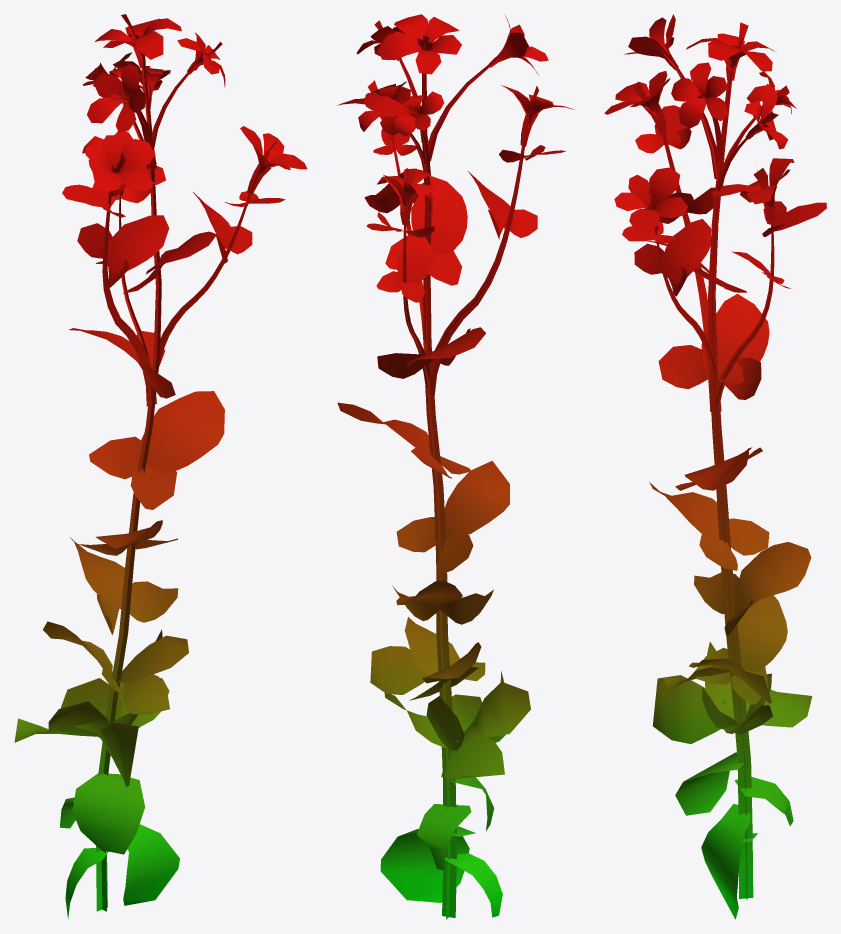
The model's file is Var1_LOD1.fbx.
3 views of the same model, side by side, from view 1: azimuth 30°, elevation 25°; view 2: azimuth 150°, elevation 25°; view 3: azimuth 270°, elevation 25° (orthographic).
Visible parts, largest first — view 1: _b868_Var1_LOD1; view 2: _b868_Var1_LOD1; view 3: _b868_Var1_LOD1.
Boxes of the visible parts, x1,y1,x2,y2 form: _b868_Var1_LOD1: (14, 14, 307, 919); _b868_Var1_LOD1: (337, 14, 574, 919); _b868_Var1_LOD1: (604, 14, 826, 919).
Size of the model in its own units: 39.04 by 144 by 32.91.
